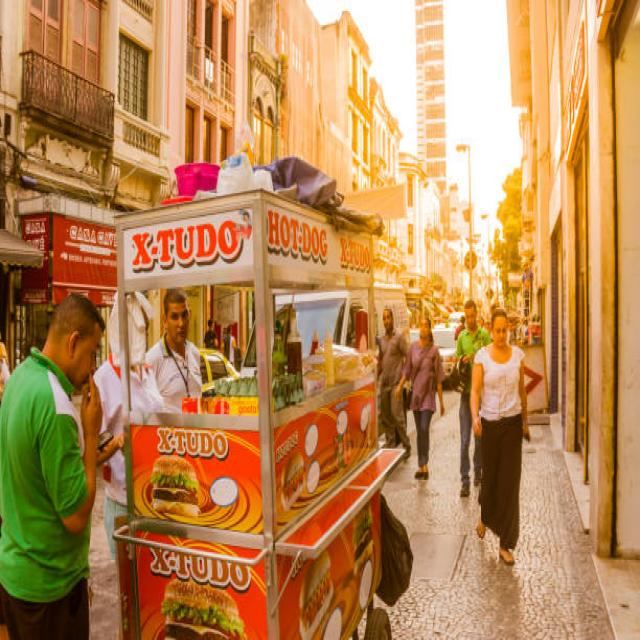Emperan: (84, 120, 440, 640)
